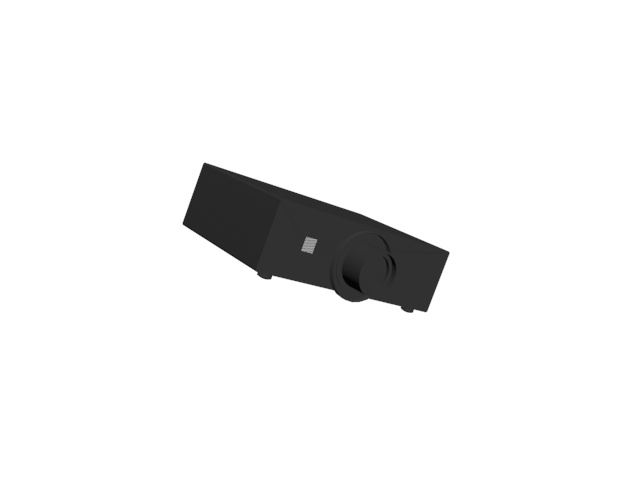projector: (177, 161, 456, 320)
